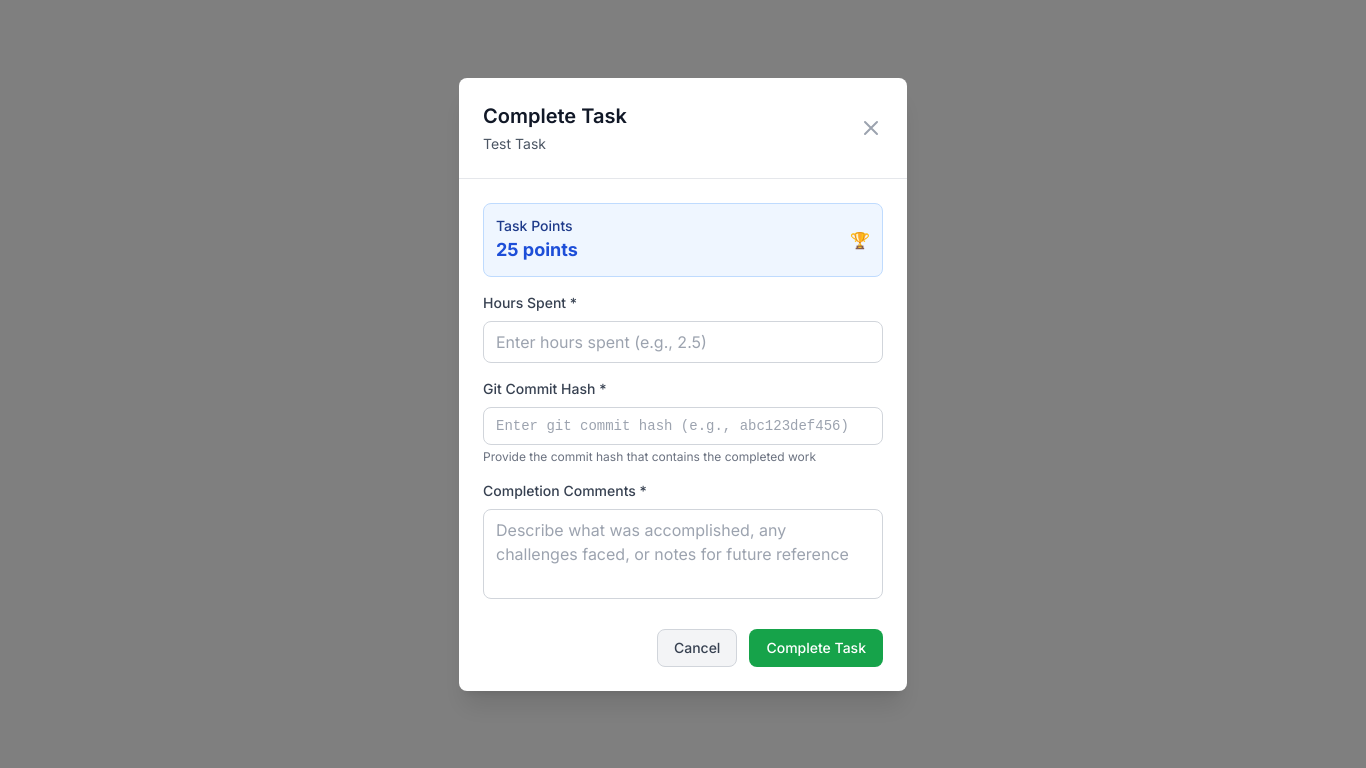
Scenario: CompleteTaskModal › Form Interactions › clears field errors when user starts typing
The width and height of the screenshot is (1366, 768).
# Submit form to trigger validation
Click the button "Complete Task" at point(816, 648), box [749,628,883,666]
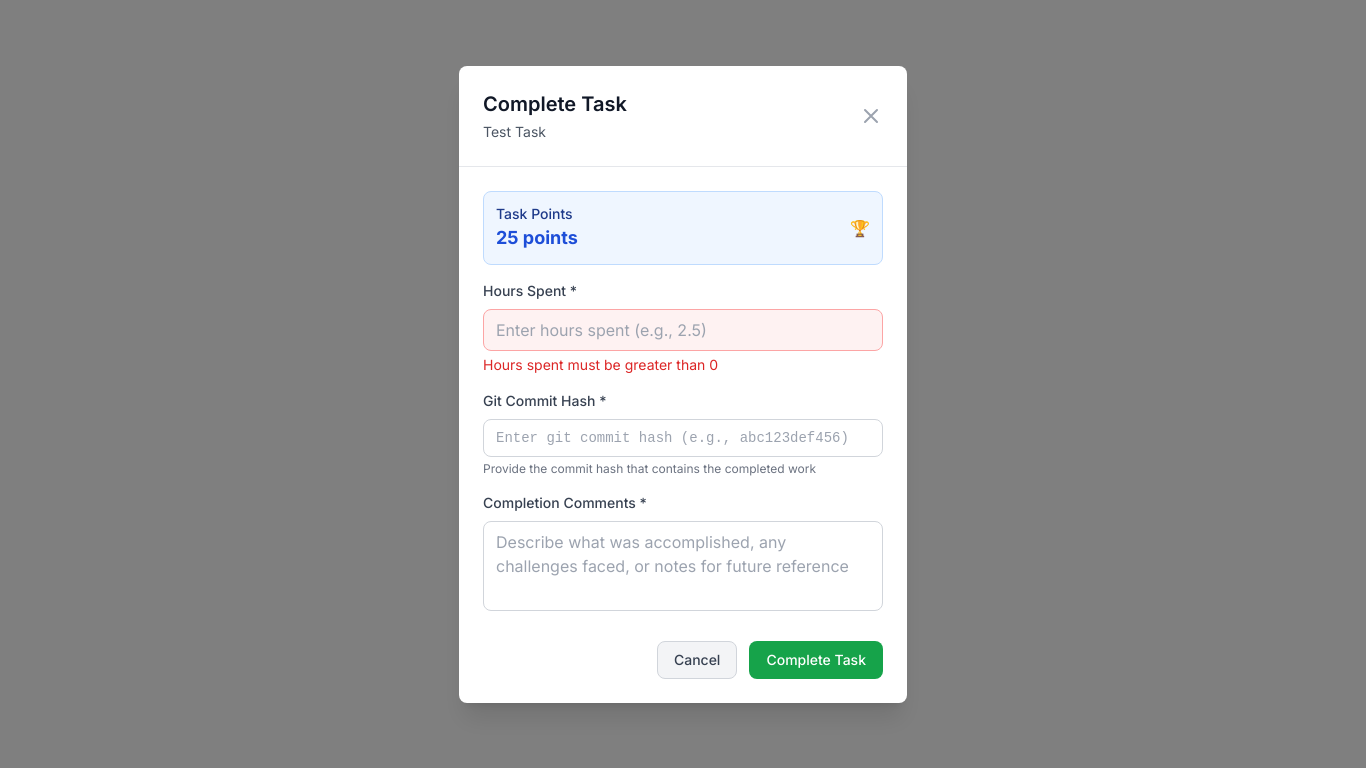
Expected: the text "Hours spent must be greater than 0" is shown, [483,356,718,372]
# Start typing in hours field
Type "2" into the number field labelled "Hours Spent *" at point(683, 330), box [483,308,883,350]
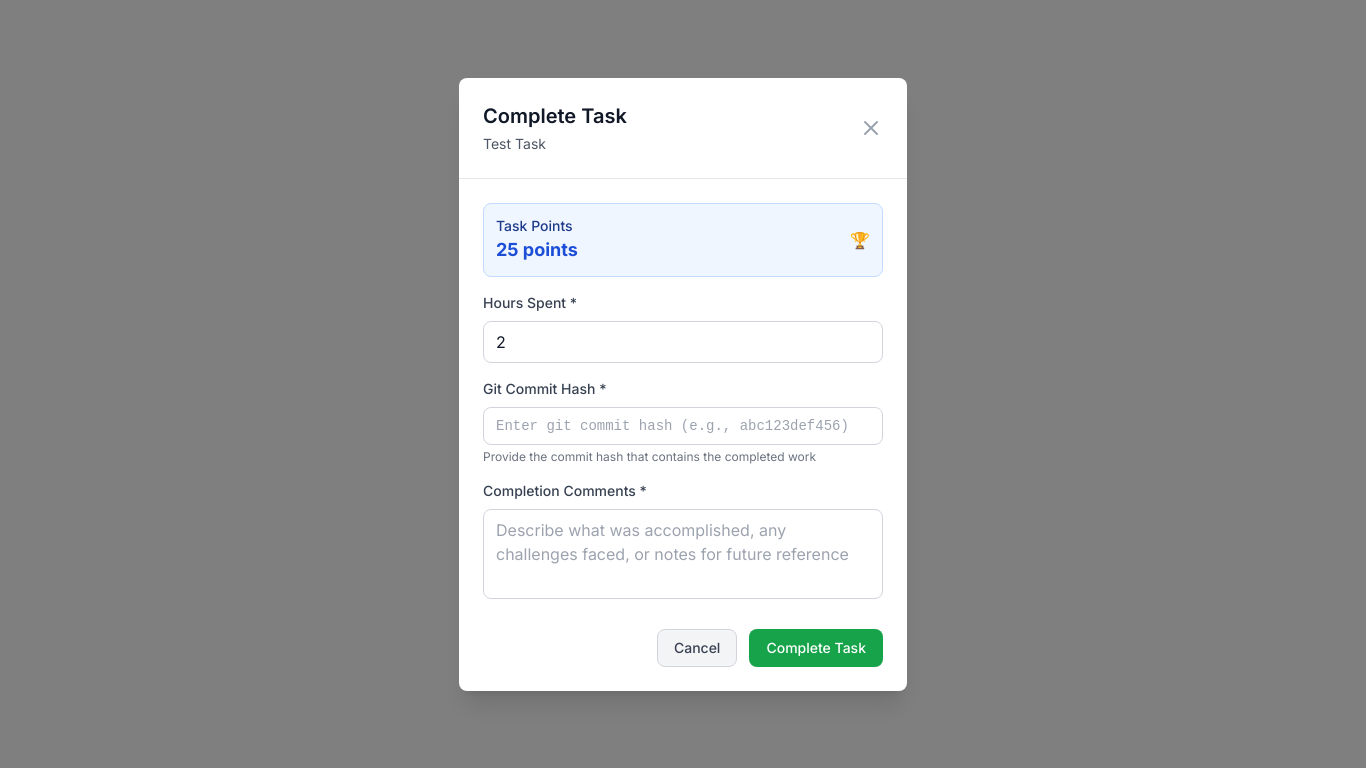
Expected: the text "Hours spent must be greater than 0" is gone
